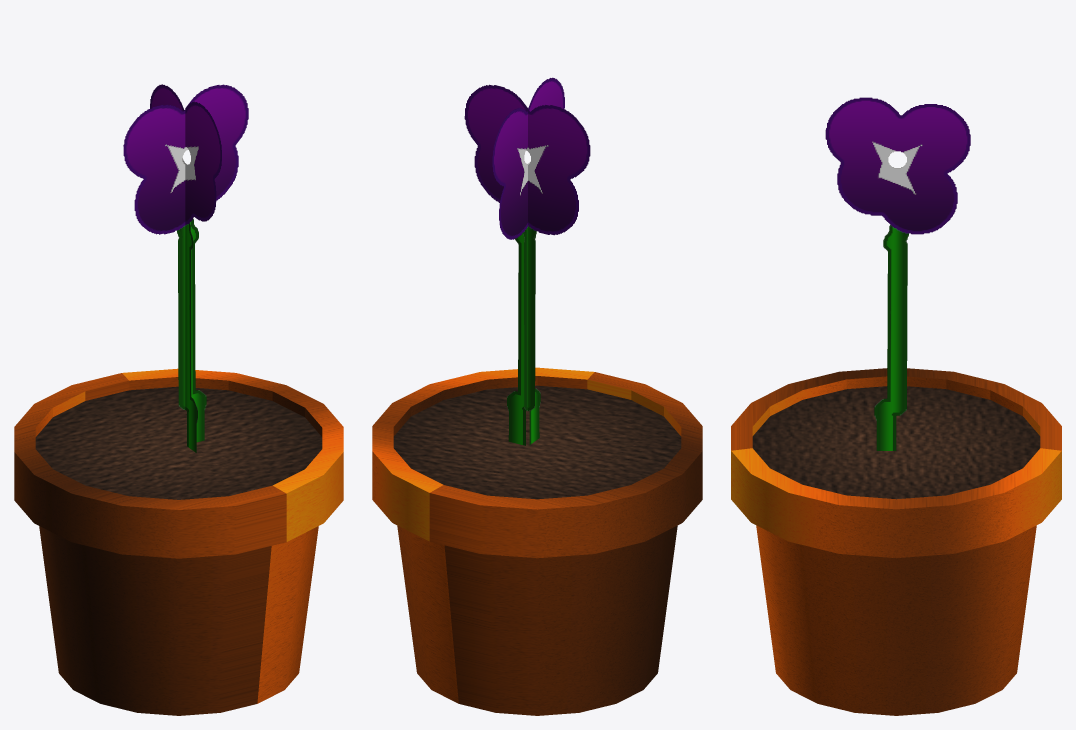
Rendered from PlantPot.FBX.
The picture shows the model from 3 angles, left to right: view 1: azimuth 30°, elevation 25°; view 2: azimuth 150°, elevation 25°; view 3: azimuth 270°, elevation 25°; orthographic projection.
Parts seen in each view (by area): view 1: Cylinder003; view 2: Cylinder003; view 3: Cylinder003.
Part boxes in pixels (x1=…): Cylinder003: x1=14, y1=84, x2=343, y2=715; Cylinder003: x1=372, y1=77, x2=702, y2=715; Cylinder003: x1=731, y1=97, x2=1061, y2=715.
Bounding box in the file's own units: 0.3121 × 0.6372 × 0.3074.
Materials: 1 (1 with a texture image).
